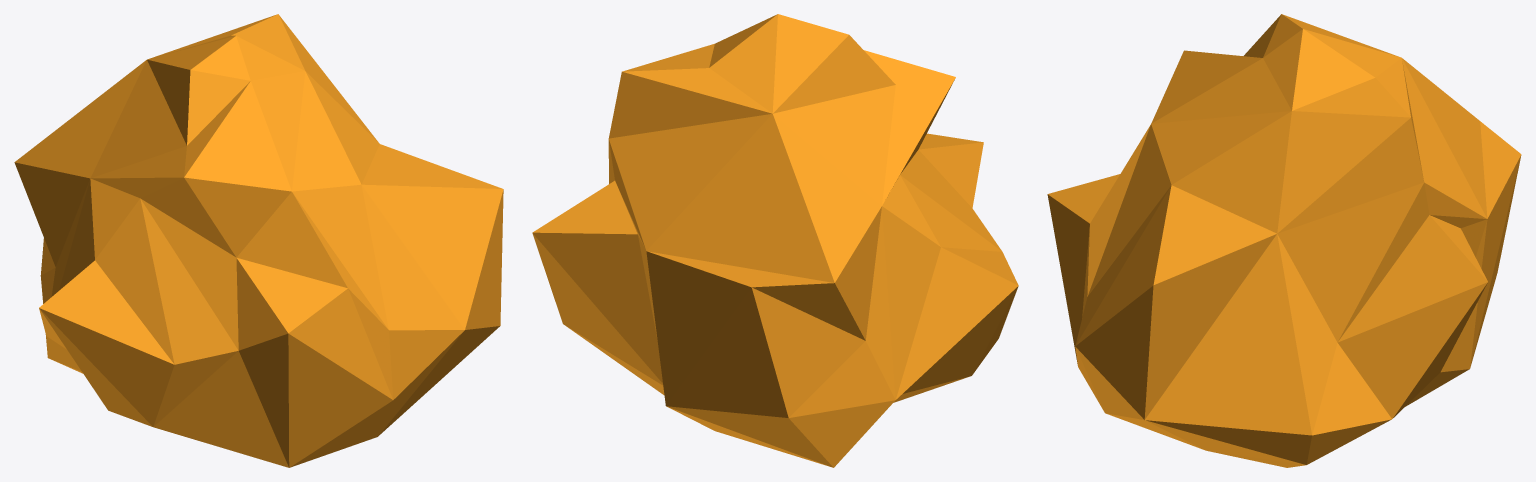
File: SM_Prop_Tree_Bush_01.fbx
3 renders of one model, left to right at view 1: azimuth 30°, elevation 25°; view 2: azimuth 150°, elevation 25°; view 3: azimuth 270°, elevation 25°, orthographic. The views are drawn at different scales.
Visible parts, largest first — view 1: SM_Prop_Tree_Bush_01; view 2: SM_Prop_Tree_Bush_01; view 3: SM_Prop_Tree_Bush_01.
Part boxes in pixels (<box>): SM_Prop_Tree_Bush_01: <box>14,14,503,467</box>; SM_Prop_Tree_Bush_01: <box>532,14,1018,467</box>; SM_Prop_Tree_Bush_01: <box>1047,14,1521,467</box>.
Size of the model in its own units: 159 by 143 by 153.
